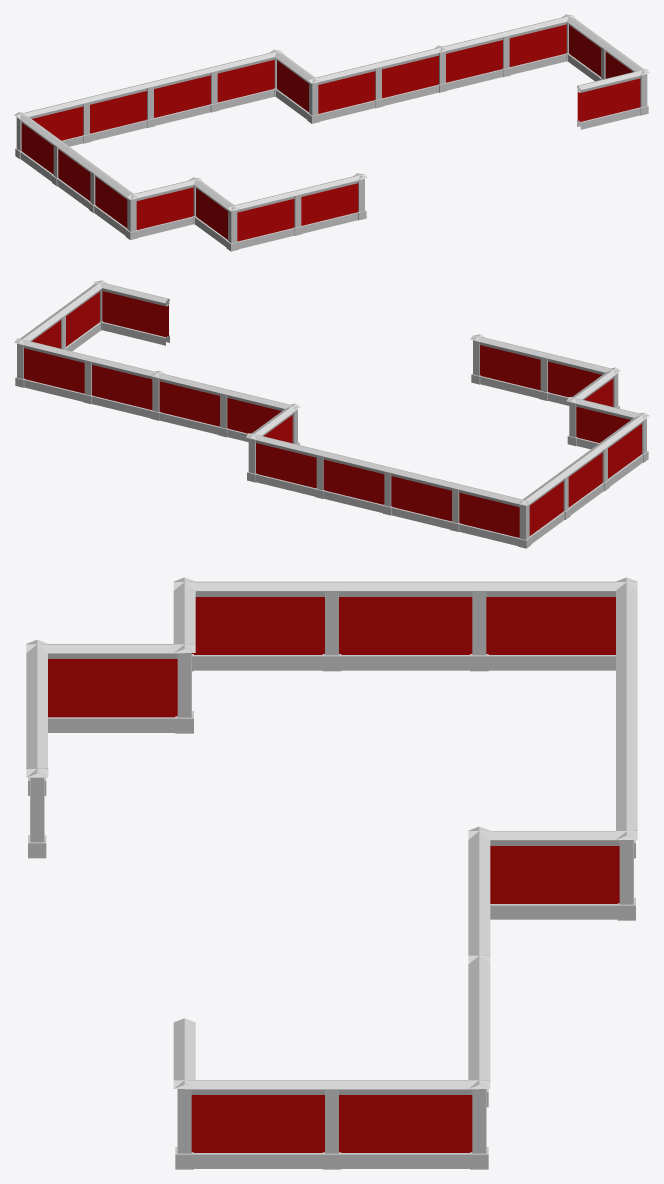
File: fence_len.fbx
3 renders of one model, top to bottom at view 1: azimuth 30°, elevation 25°; view 2: azimuth 150°, elevation 25°; view 3: azimuth 270°, elevation 25°, orthographic. The views are drawn at different scales.
Parts seen in each view (by area): view 1: merge436; view 2: merge436; view 3: merge436.
Boxes of the visible parts, bbox=[...] form: merge436: bbox=[14, 14, 649, 251]; merge436: bbox=[14, 280, 649, 548]; merge436: bbox=[26, 577, 637, 1169].
Size of the model in its own units: 65.2 by 5.12 by 33.2.
